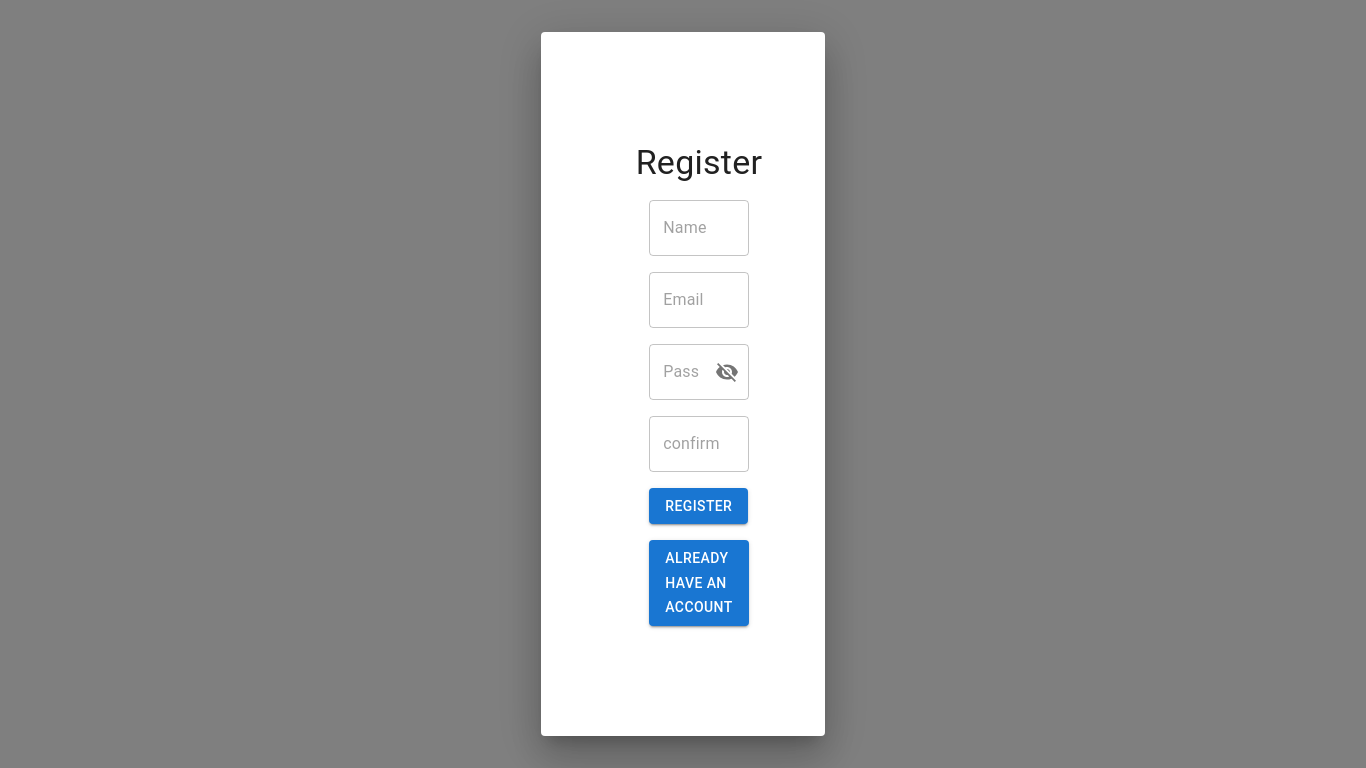
Test: Register Component › displays validation errors when required fields are empty
What coordinates should you click on to do the following:
click the button with test id "register"
I would click on:
 (699, 506)
Its box is [649,488,748,524].
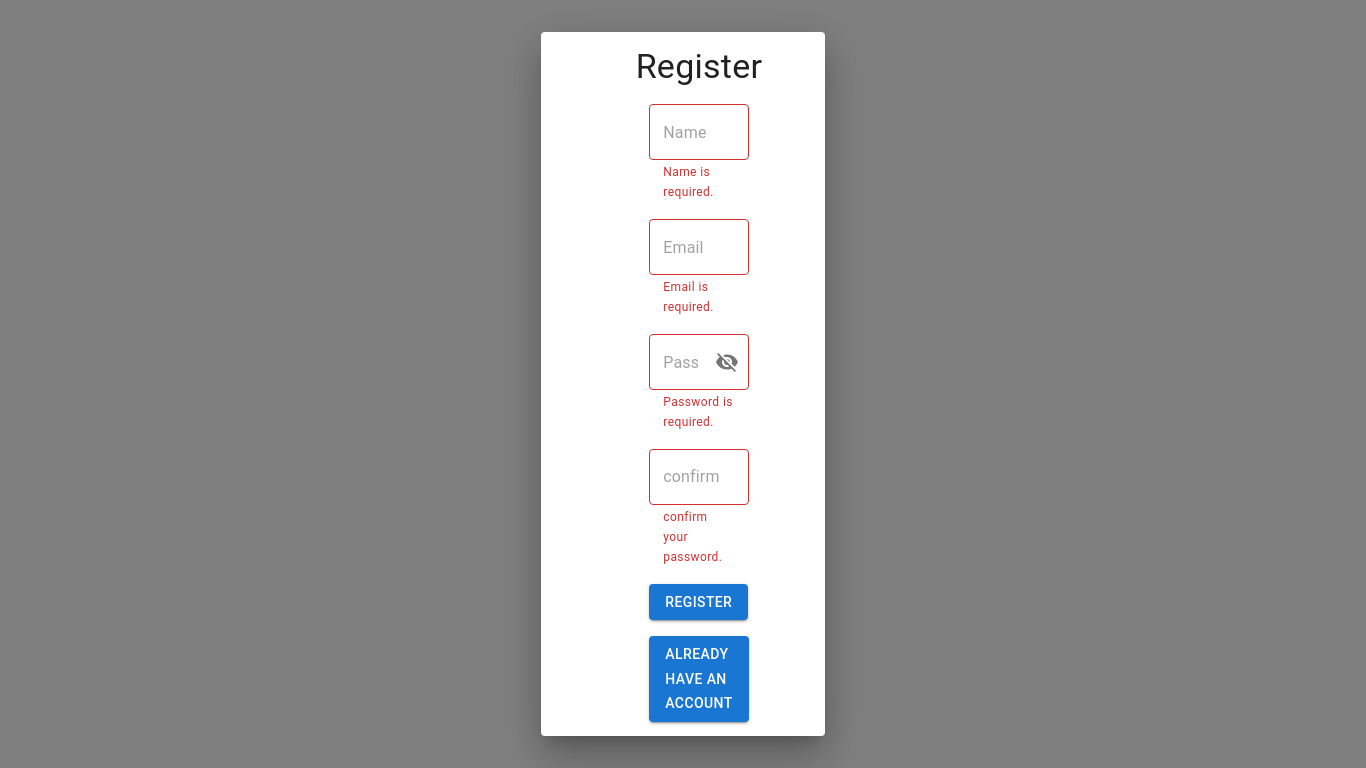
Expected: the text "Name is required." is shown, [663,165,714,199]
Expected: the text "Email is required." is shown, [663,280,714,314]
Expected: the text "Password is required." is shown, [663,393,735,433]
